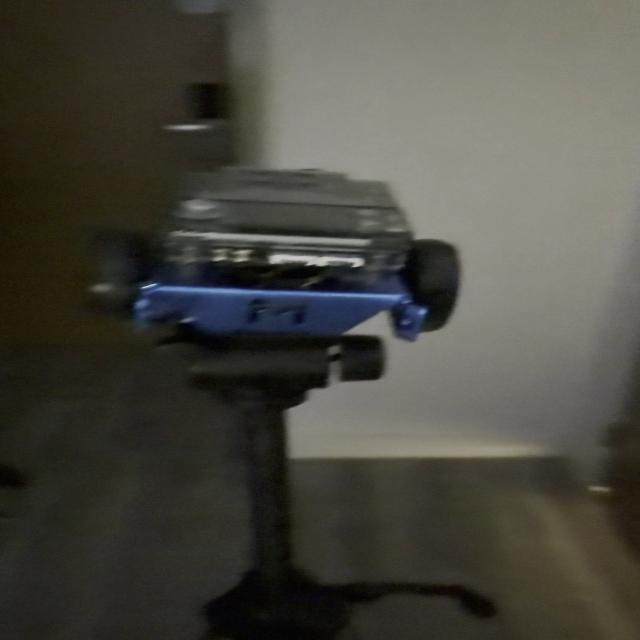mbot-detection: (80, 164, 470, 351)
